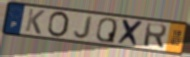J: (73, 15, 95, 40)
K: (24, 8, 46, 36)
O: (46, 10, 71, 39)
Q: (94, 17, 118, 44)
R: (142, 22, 169, 50)
X: (116, 18, 146, 48)
